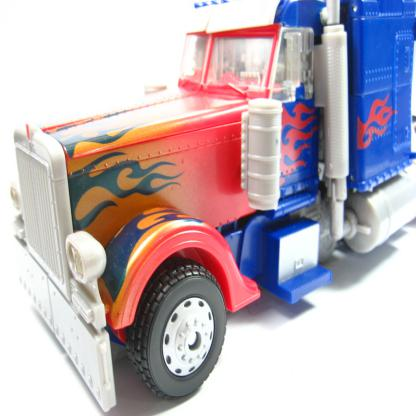Truck: (0, 0, 374, 406)
